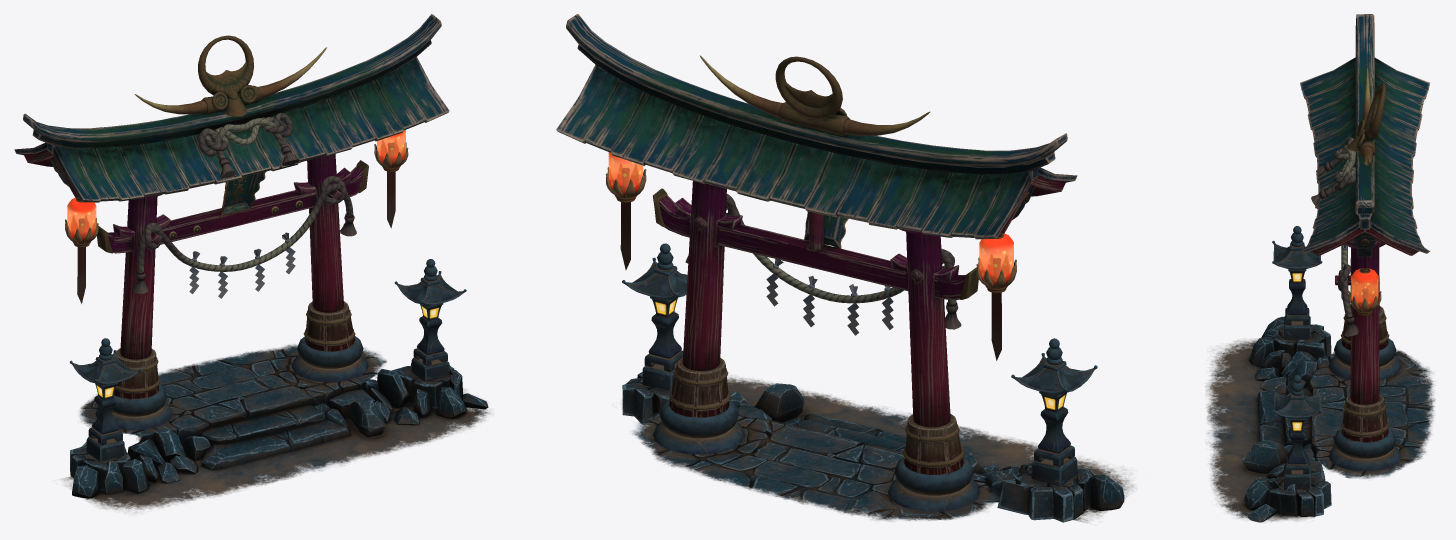
The model's file is torii_gate.glb.
The picture shows the model from 3 angles, left to right: view 1: azimuth 30°, elevation 25°; view 2: azimuth 150°, elevation 25°; view 3: azimuth 270°, elevation 25°; orthographic projection. The views are drawn at different scales.
Parts seen in each view (by area): view 1: Object118_01 - Default_0, Object084_02 - Default_0, Object120_01 - Default_0, Plane003_02 - Default_0, Object255_01 - Default_0, Object262_01 - Default_0, Cylinder003_01 - Default_0, Line008, Object172_02 - Default_0, Object273_02 - Default_0, Object189_02 - Default_0, Object274_01 - Default_0 (+4 smaller); view 2: Object118_01 - Default_0, Object120_01 - Default_0, Object084_02 - Default_0, Object255_01 - Default_0, Object262_01 - Default_0, Cylinder003_01 - Default_0, Plane003_02 - Default_0, Object273_02 - Default_0, Object274_01 - Default_0, Line008, Object275_01 - Default_0, Cylinder021 (+1 smaller); view 3: Object118_01 - Default_0, Object084_02 - Default_0, Plane003_02 - Default_0, Object120_01 - Default_0, Object262_01 - Default_0, Object255_01 - Default_0, Object273_02 - Default_0, Object275_01 - Default_0, Cylinder003_01 - Default_0, Object172_02 - Default_0, Line008, Object189_02 - Default_0 (+3 smaller).
Boxes of the visible parts, bbox=[...] form: Object118_01 - Default_0: bbox=[14, 57, 449, 399]; Object084_02 - Default_0: bbox=[72, 344, 488, 498]; Object120_01 - Default_0: bbox=[23, 14, 441, 359]; Plane003_02 - Default_0: bbox=[61, 389, 490, 512]; Object255_01 - Default_0: bbox=[23, 35, 368, 429]; Object262_01 - Default_0: bbox=[69, 259, 466, 461]; Cylinder003_01 - Default_0: bbox=[32, 40, 431, 253]; Line008: bbox=[54, 85, 353, 272]; Object172_02 - Default_0: bbox=[137, 369, 432, 482]; Object273_02 - Default_0: bbox=[70, 363, 463, 490]; Object189_02 - Default_0: bbox=[104, 380, 390, 494]; Object274_01 - Default_0: bbox=[65, 198, 98, 303]; Object118_01 - Default_0: bbox=[556, 64, 1077, 474]; Object120_01 - Default_0: bbox=[566, 14, 1067, 427]; Object084_02 - Default_0: bbox=[632, 383, 1124, 521]; Object255_01 - Default_0: bbox=[653, 56, 1066, 511]; Object262_01 - Default_0: bbox=[622, 243, 1097, 486]; Cylinder003_01 - Default_0: bbox=[577, 45, 1055, 299]; Plane003_02 - Default_0: bbox=[727, 376, 1133, 522]; Object273_02 - Default_0: bbox=[622, 372, 1092, 522]; Object274_01 - Default_0: bbox=[976, 233, 1016, 360]; Line008: bbox=[726, 108, 1029, 304]; Object275_01 - Default_0: bbox=[605, 152, 646, 270]; Cylinder021: bbox=[694, 102, 943, 282]; Object118_01 - Default_0: bbox=[1300, 57, 1429, 442]; Object084_02 - Default_0: bbox=[1242, 316, 1435, 522]; Plane003_02 - Default_0: bbox=[1205, 338, 1314, 521]; Object120_01 - Default_0: bbox=[1350, 14, 1379, 404]; Object262_01 - Default_0: bbox=[1272, 226, 1322, 489]; Object255_01 - Default_0: bbox=[1311, 83, 1418, 471]; Object273_02 - Default_0: bbox=[1268, 324, 1331, 516]; Object275_01 - Default_0: bbox=[1348, 257, 1381, 368]; Cylinder003_01 - Default_0: bbox=[1311, 68, 1376, 291]; Object172_02 - Default_0: bbox=[1259, 350, 1325, 487]; Line008: bbox=[1334, 120, 1385, 316]; Object189_02 - Default_0: bbox=[1264, 330, 1316, 478].
Size of the model in its own units: 161 by 136 by 86.56.
Materials: 2 (2 with a texture image).
